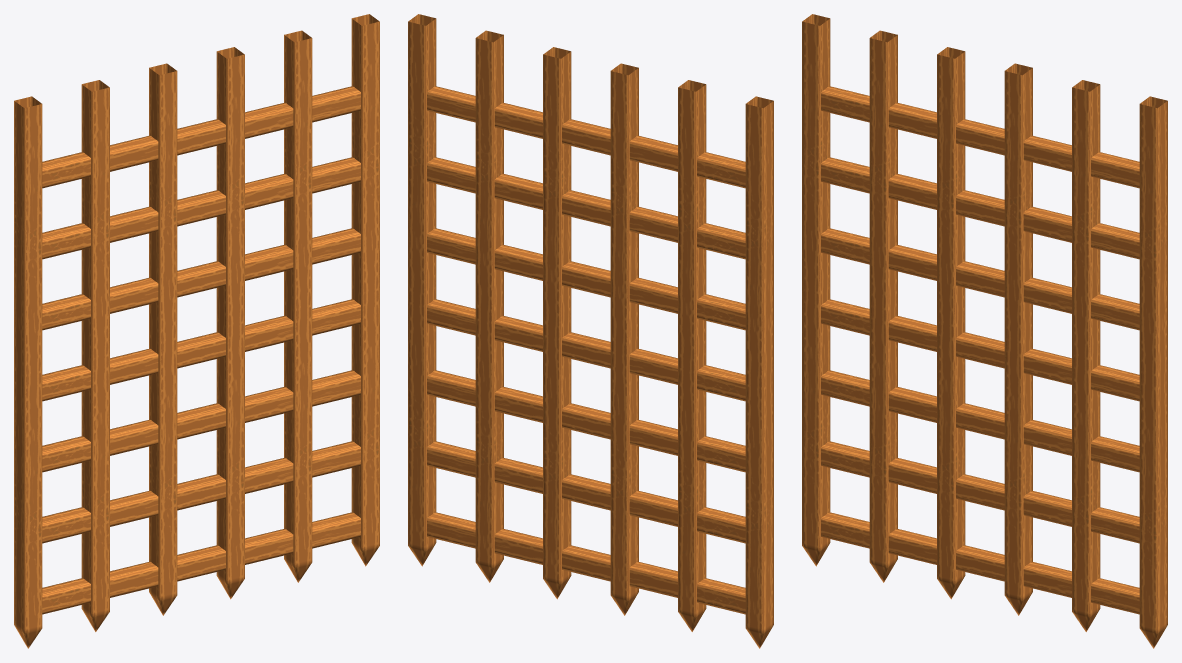
File: Arena_Gate_Metal.fbx
3 views of the same model, side by side, from view 1: azimuth 30°, elevation 25°; view 2: azimuth 150°, elevation 25°; view 3: azimuth 330°, elevation 25° (orthographic).
Parts seen in each view (by area): view 1: Cube.018; view 2: Cube.018; view 3: Cube.018.
Part boxes in pixels (x1,y1,x2,y2): Cube.018: (14, 14, 379, 648); Cube.018: (408, 14, 773, 648); Cube.018: (802, 14, 1167, 648).
Size of the model in its own units: 357 by 524 by 17.96.
